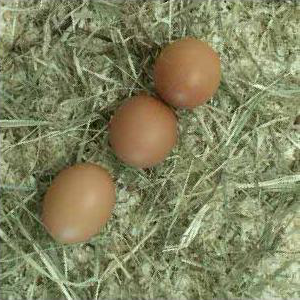egg: (41, 162, 117, 245), (109, 96, 178, 168), (153, 38, 221, 109)
